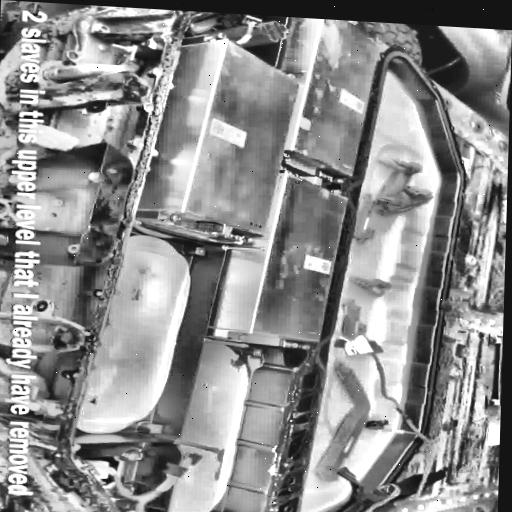battery_module: (132, 39, 300, 248), (277, 17, 382, 186), (249, 174, 348, 344)
busbar: (313, 362, 374, 485), (373, 157, 436, 218)
low_volt_cable: (357, 339, 434, 512)
